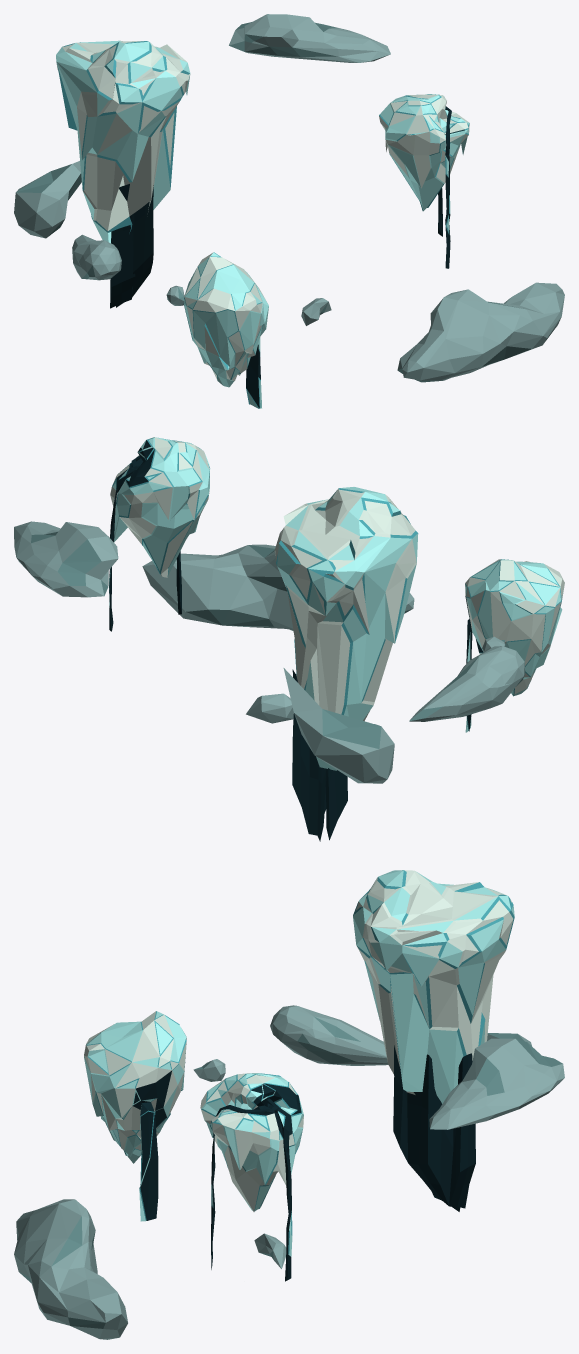
The model's file is iceWorld.obj.
3 renders of one model, top to bottom at view 1: azimuth 30°, elevation 25°; view 2: azimuth 150°, elevation 25°; view 3: azimuth 270°, elevation 25°, orthographic. The views are drawn at different scales.
Visible parts, largest first — view 1: Nube02_M_Blanco_0, IslaFlotanteHielo03_M_Hielosombras_0, IslaFlotanteHielo03_M_HieloBase_0, IslaFlotanteHielo02_M_HieloBase_0, Nube01_M_Blanco_0, IslaFlotanteHielo01_M_HieloBase_0, IslaFlotanteHielo01_M_Hielosombras_0, IslaFlotanteHielo03_M_Agua_0, IslaFlotanteHielo02_M_Hielosombras_0, Nube03_M_Blanco_0, IslaFlotanteHielo03_M_HieloExtra_0, Nube06_M_Blanco_0 (+7 smaller); view 2: IslaFlotanteHielo03_M_Hielosombras_0, IslaFlotanteHielo03_M_HieloBase_0, Nube02_M_Blanco_0, IslaFlotanteHielo01_M_HieloBase_0, Nube01_M_Blanco_0, IslaFlotanteHielo02_M_Hielosombras_0, Nube06_M_Blanco_0, Nube03_M_Blanco_0, IslaFlotanteHielo02_M_HieloBase_0, IslaFlotanteHielo03_M_Agua_0, IslaFlotanteHielo01_M_Hielosombras_0, IslaFlotanteHielo03_M_HieloExtra_0 (+7 smaller); view 3: IslaFlotanteHielo03_M_HieloBase_0, IslaFlotanteHielo03_M_Hielosombras_0, Nube02_M_Blanco_0, IslaFlotanteHielo03_M_Agua_0, Nube01_M_Blanco_0, IslaFlotanteHielo02_M_HieloBase_0, IslaFlotanteHielo02_M_Hielosombras_0, IslaFlotanteHielo01_M_Hielosombras_0, Nube06_M_Blanco_0, IslaFlotanteHielo01_M_HieloBase_0, IslaFlotanteHielo02_M_Agua_0, IslaFlotanteHielo01_M_Agua_0 (+7 smaller).
Part boxes in pixels (bbox=[...]): Nube02_M_Blanco_0: bbox=[397, 282, 564, 380]; IslaFlotanteHielo03_M_Hielosombras_0: bbox=[56, 40, 189, 230]; IslaFlotanteHielo03_M_HieloBase_0: bbox=[56, 40, 190, 243]; IslaFlotanteHielo02_M_HieloBase_0: bbox=[184, 252, 268, 408]; Nube01_M_Blanco_0: bbox=[229, 14, 390, 62]; IslaFlotanteHielo01_M_HieloBase_0: bbox=[380, 94, 469, 234]; IslaFlotanteHielo01_M_Hielosombras_0: bbox=[379, 94, 469, 188]; IslaFlotanteHielo03_M_Agua_0: bbox=[110, 184, 153, 308]; IslaFlotanteHielo02_M_Hielosombras_0: bbox=[184, 252, 267, 381]; Nube03_M_Blanco_0: bbox=[14, 161, 80, 238]; IslaFlotanteHielo03_M_HieloExtra_0: bbox=[57, 41, 189, 233]; Nube06_M_Blanco_0: bbox=[72, 234, 121, 280]; IslaFlotanteHielo03_M_Hielosombras_0: bbox=[274, 488, 416, 721]; IslaFlotanteHielo03_M_HieloBase_0: bbox=[277, 487, 418, 770]; Nube02_M_Blanco_0: bbox=[142, 544, 414, 631]; IslaFlotanteHielo01_M_HieloBase_0: bbox=[109, 437, 210, 607]; Nube01_M_Blanco_0: bbox=[14, 521, 118, 597]; IslaFlotanteHielo02_M_Hielosombras_0: bbox=[465, 559, 564, 694]; Nube06_M_Blanco_0: bbox=[409, 646, 524, 721]; Nube03_M_Blanco_0: bbox=[283, 668, 394, 783]; IslaFlotanteHielo02_M_HieloBase_0: bbox=[465, 559, 562, 732]; IslaFlotanteHielo03_M_Agua_0: bbox=[292, 669, 347, 841]; IslaFlotanteHielo01_M_Hielosombras_0: bbox=[110, 437, 209, 577]; IslaFlotanteHielo03_M_HieloExtra_0: bbox=[276, 488, 417, 714]; IslaFlotanteHielo03_M_HieloBase_0: bbox=[353, 870, 514, 1103]; IslaFlotanteHielo03_M_Hielosombras_0: bbox=[355, 870, 513, 1094]; Nube02_M_Blanco_0: bbox=[14, 1199, 127, 1339]; IslaFlotanteHielo03_M_Agua_0: bbox=[393, 1045, 475, 1211]; Nube01_M_Blanco_0: bbox=[429, 1038, 564, 1129]; IslaFlotanteHielo02_M_HieloBase_0: bbox=[84, 1011, 186, 1221]; IslaFlotanteHielo02_M_Hielosombras_0: bbox=[84, 1011, 186, 1150]; IslaFlotanteHielo01_M_Hielosombras_0: bbox=[200, 1073, 303, 1211]; Nube06_M_Blanco_0: bbox=[270, 1005, 388, 1065]; IslaFlotanteHielo01_M_HieloBase_0: bbox=[201, 1073, 303, 1256]; IslaFlotanteHielo02_M_Agua_0: bbox=[132, 1070, 171, 1220]; IslaFlotanteHielo01_M_Agua_0: bbox=[211, 1083, 301, 1281].
Size of the model in its own units: 1733 by 1340 by 1770.
